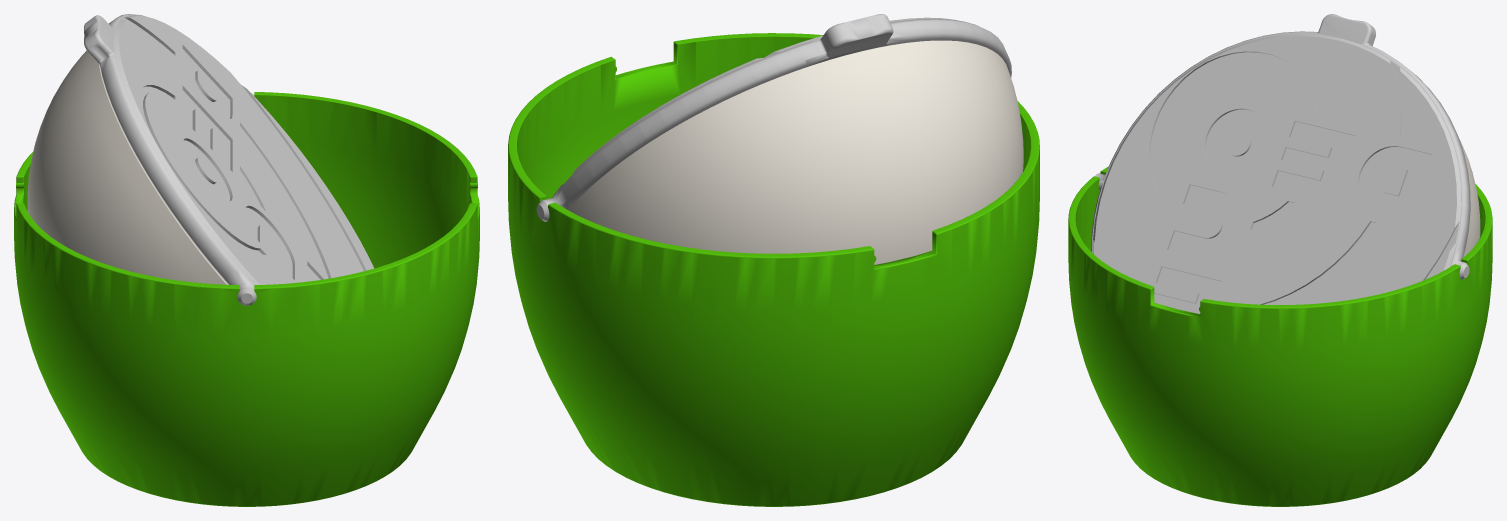
3 renders of one model, left to right at view 1: azimuth 30°, elevation 25°; view 2: azimuth 150°, elevation 25°; view 3: azimuth 270°, elevation 25°, orthographic. The views are drawn at different scales.
Parts seen in each view (by area): view 1: New cup, New, Stick; view 2: New cup, Stick, New; view 3: New, New cup, Stick.
Boxes of the visible parts, <box> form: New cup: <box>14,92,479,506</box>; New: <box>84,14,374,305</box>; Stick: <box>27,50,228,284</box>; New cup: <box>508,33,1039,506</box>; Stick: <box>568,40,1023,264</box>; New: <box>536,14,1011,221</box>; New: <box>1091,14,1470,313</box>; New cup: <box>1068,166,1492,506</box>; Stick: <box>1459,139,1480,257</box>.
Size of the model in its own units: 3.05 by 2.97 by 3.05.
